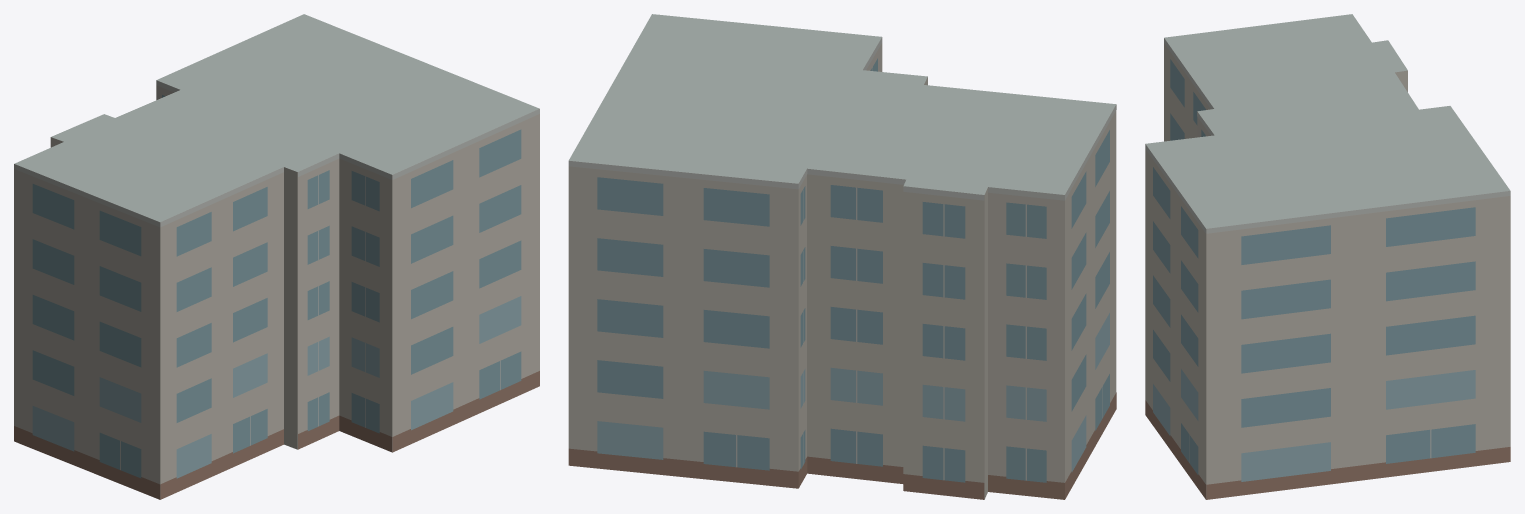
File: survey-upis-32970282.glb
The picture shows the model from 3 angles, left to right: view 1: azimuth 30°, elevation 25°; view 2: azimuth 150°, elevation 25°; view 3: azimuth 270°, elevation 25°; orthographic projection. The views are drawn at different scales.
Parts seen in each view (by area): view 1: survey-upis-32970282.tmp; view 2: survey-upis-32970282.tmp; view 3: survey-upis-32970282.tmp.
Boxes of the visible parts, x1,y1,x2,y2 form: survey-upis-32970282.tmp: (14, 14, 539, 499); survey-upis-32970282.tmp: (568, 14, 1116, 499); survey-upis-32970282.tmp: (1145, 14, 1510, 499).
Bounding box in the file's own units: 22.45 × 13.2 × 16.13.
